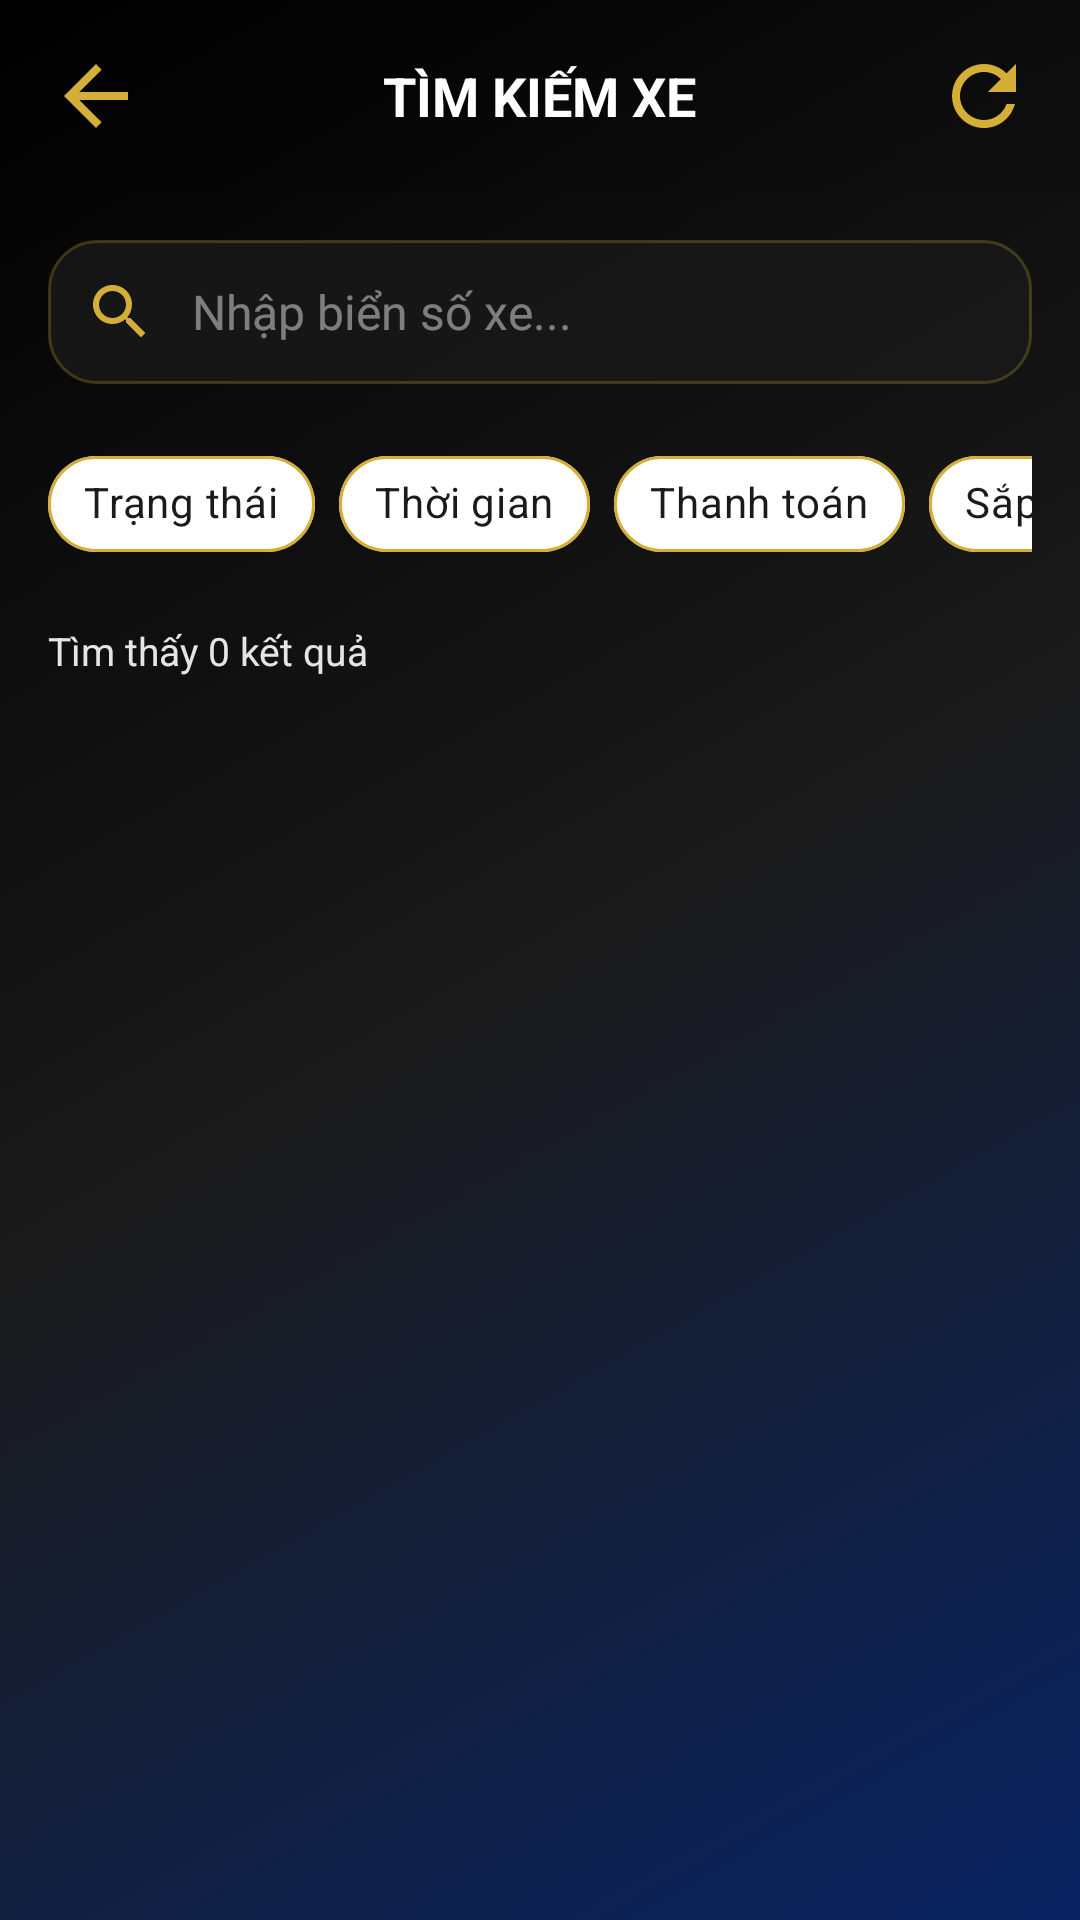

Icon click points for this 1080 x 1920 phone screenshot, format (x=x, y=y):
Back: (x=96, y=96)
Reset: (x=984, y=96)
search: (x=119, y=311)
